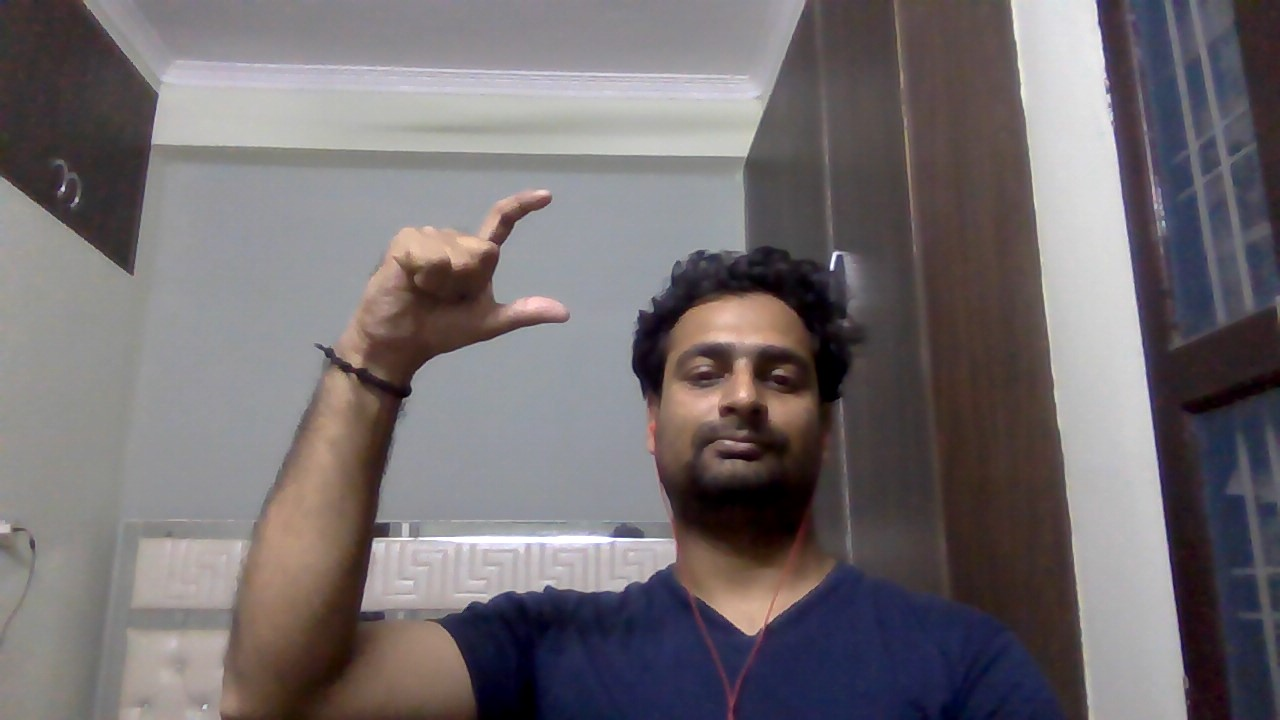Paste: (340, 175, 581, 381)
